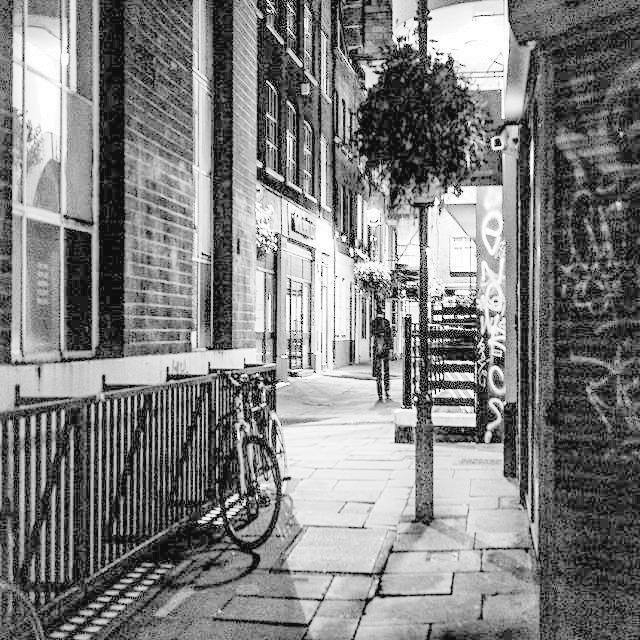Bicycle: (189, 344, 276, 544), (229, 347, 307, 529)
Tree: (355, 42, 475, 528)
